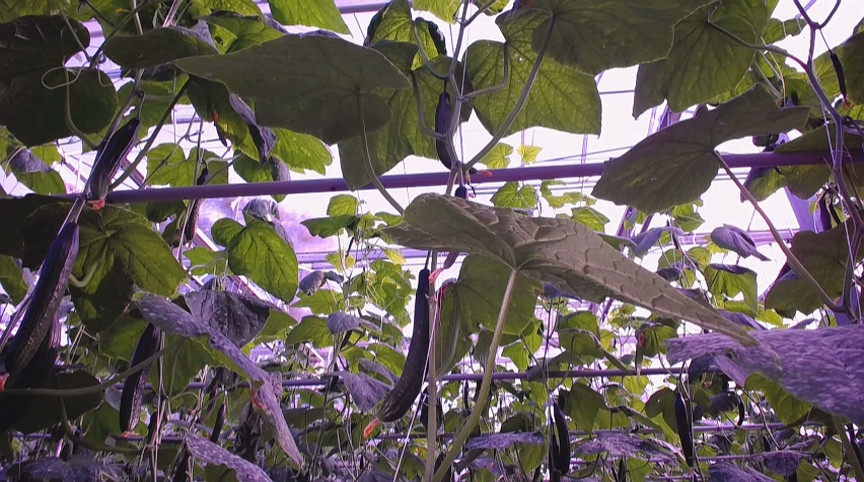cucumber: (5, 222, 83, 376), (378, 267, 436, 422), (116, 322, 162, 433), (89, 116, 145, 200), (430, 89, 458, 170), (184, 169, 213, 243), (671, 390, 694, 467), (554, 398, 573, 476)
